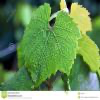grape leaf: (20, 4, 80, 88)
